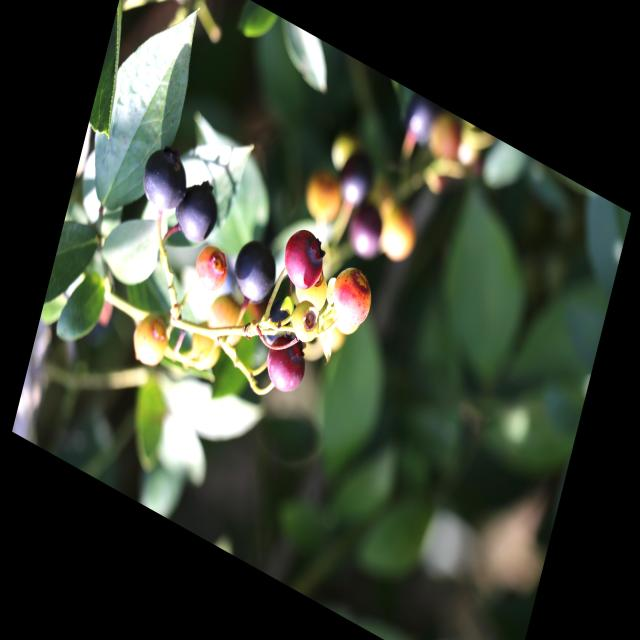blueberry: (170, 168, 224, 254), (137, 137, 192, 221), (232, 229, 284, 310), (343, 196, 386, 266), (336, 151, 376, 210)
blueberry-halfripe: (277, 216, 331, 297), (326, 258, 378, 334), (259, 328, 311, 402), (190, 236, 233, 301)
blueberry-unripe: (128, 305, 176, 377), (372, 200, 418, 274), (203, 293, 250, 356), (301, 168, 346, 231), (283, 293, 326, 351), (292, 259, 334, 317), (185, 328, 225, 380)
